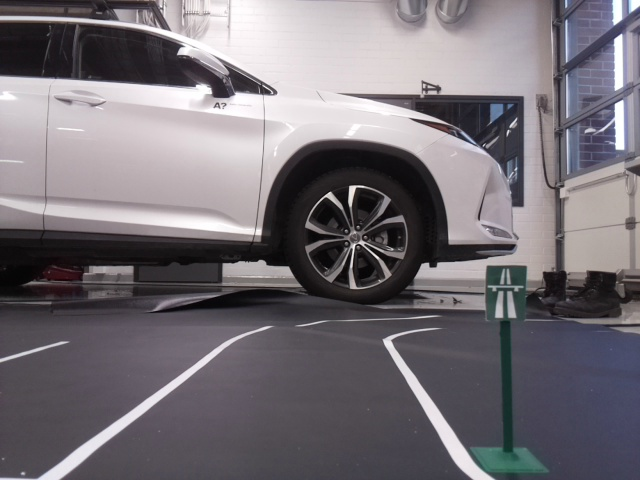HighwayEntrance: (486, 265, 525, 319)
